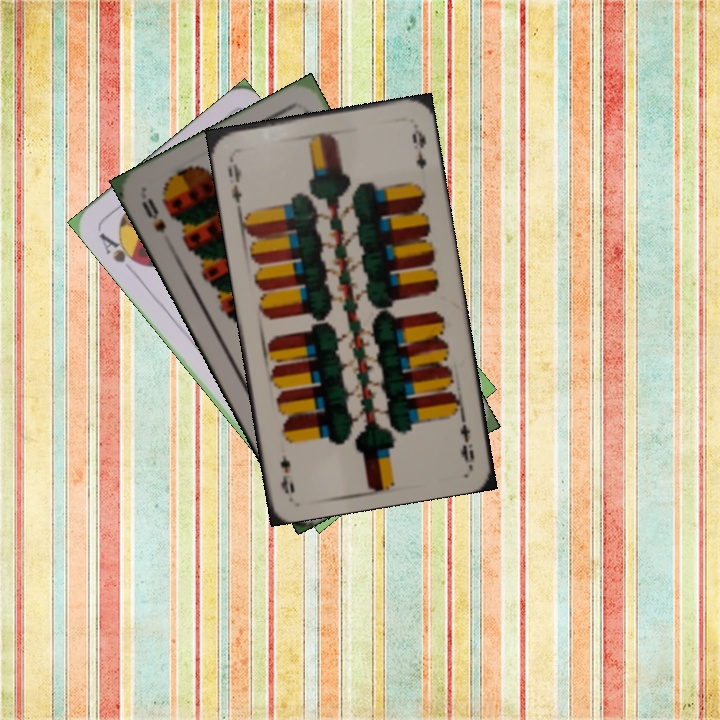E9: (448, 407, 477, 466), (224, 152, 245, 206)
S8: (137, 193, 169, 236)
SA: (94, 228, 145, 269)
